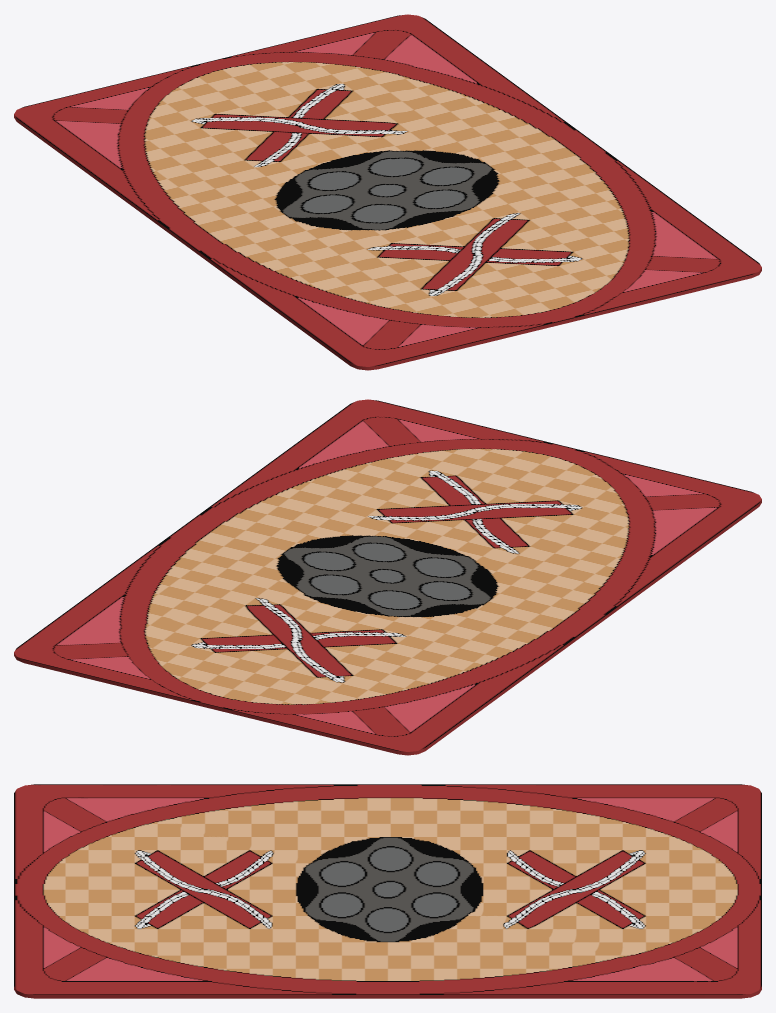
Rendered from Card.fbx.
3 views of the same model, one above another, from view 1: azimuth 30°, elevation 25°; view 2: azimuth 150°, elevation 25°; view 3: azimuth 270°, elevation 25° (orthographic). The views are drawn at different scales.
Visible parts, largest first — view 1: Plane; view 2: Plane; view 3: Plane.
Part boxes in pixels (x1,y1,x2,y2): Plane: (14,14,761,370); Plane: (14,399,761,755); Plane: (14,784,761,998).
Size of the model in its own units: 12.5 by 0.1 by 18.75.
